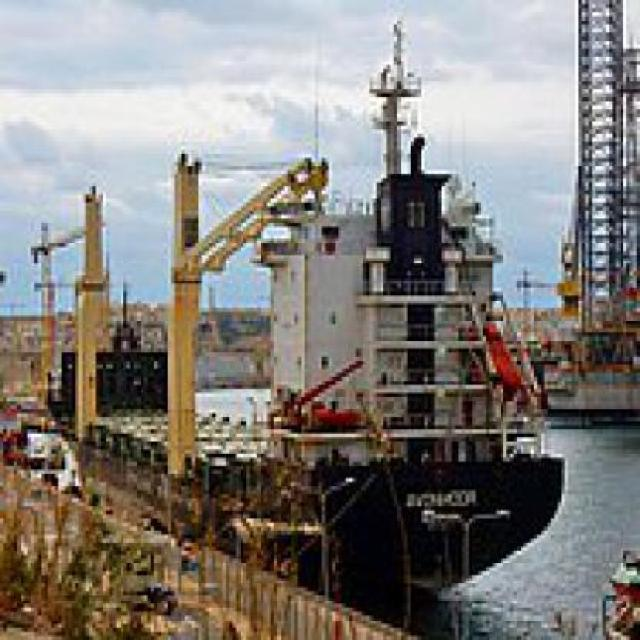container: (21, 9, 579, 613)
